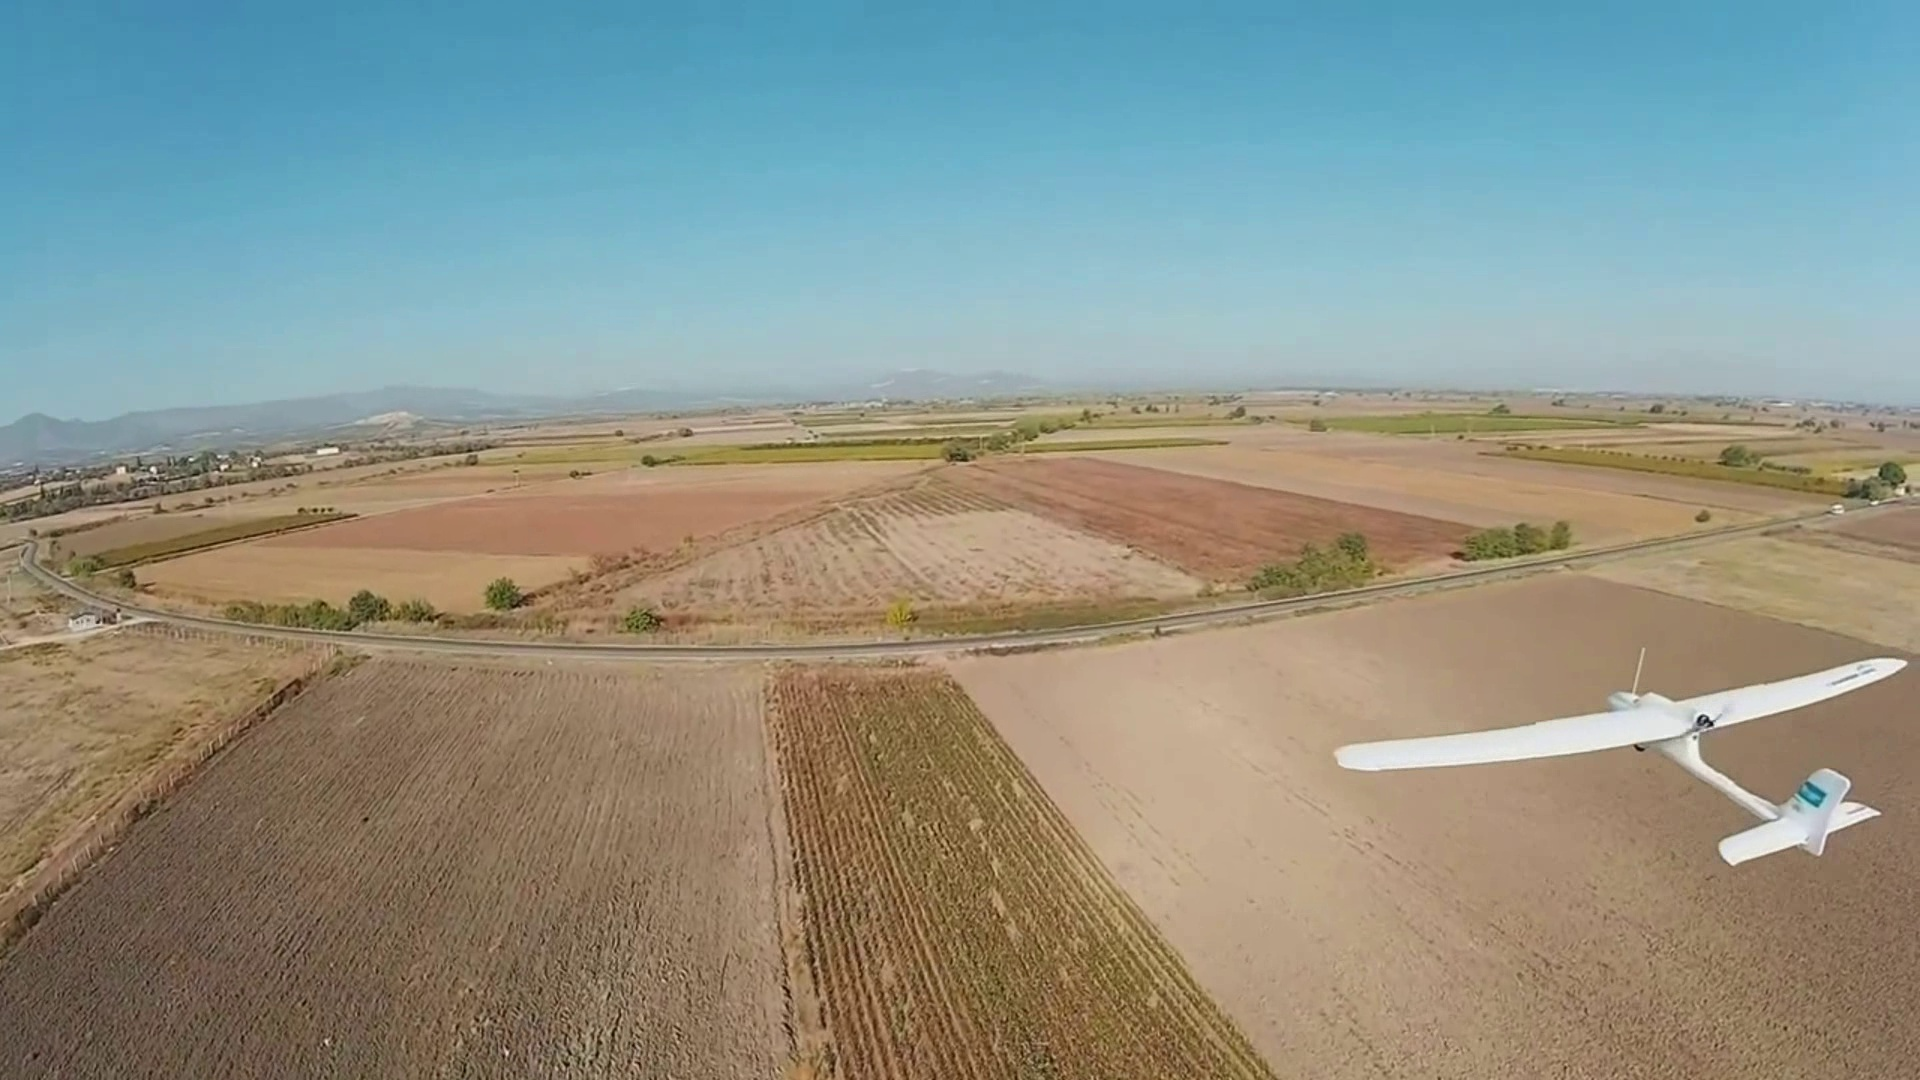airplane: (1331, 645, 1909, 869)
